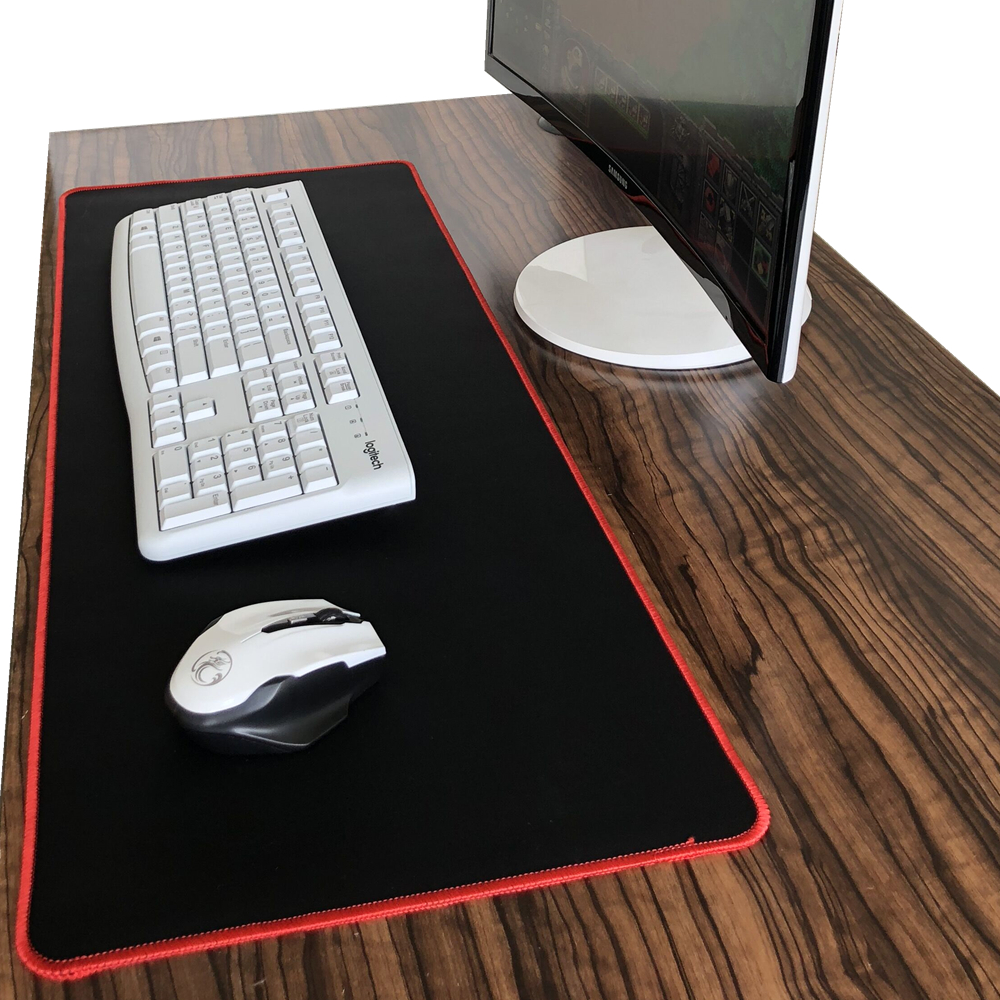keyboard: (81, 163, 431, 575)
mouse: (121, 590, 436, 759)
